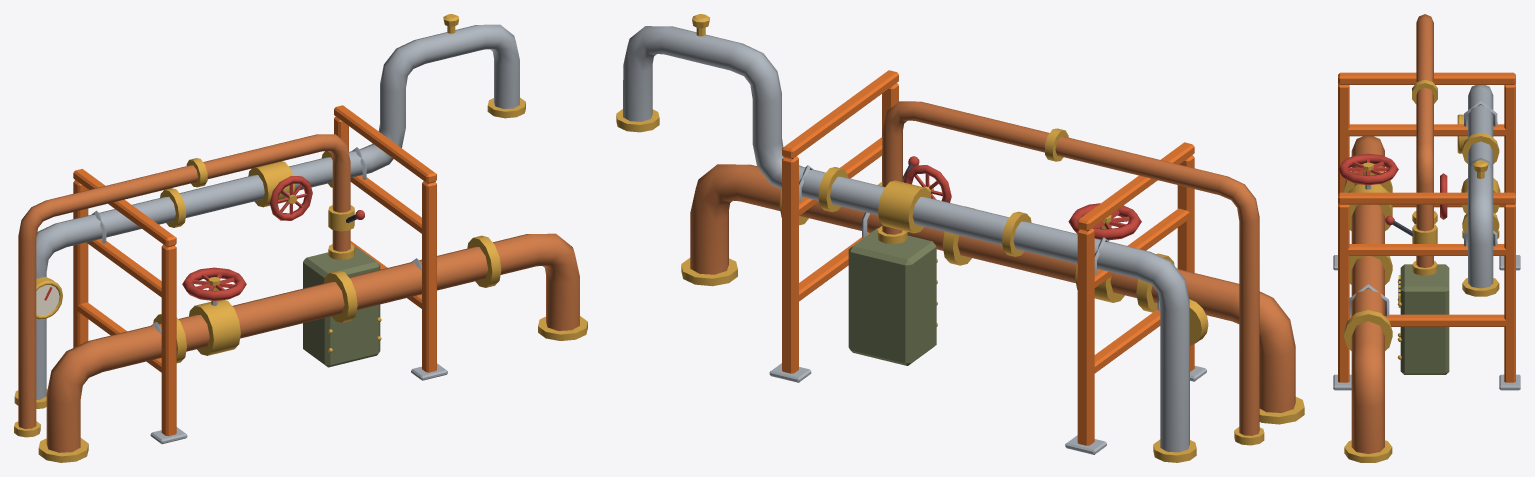
File: prop_pipes.glb
3 renders of one model, left to right at view 1: azimuth 30°, elevation 25°; view 2: azimuth 150°, elevation 25°; view 3: azimuth 270°, elevation 25°, orthographic. The views are drawn at different scales.
Visible parts, largest first — view 1: Pipes; view 2: Pipes; view 3: Pipes.
Part boxes in pixels (x1=…): Pipes: x1=14, y1=14, x2=587, y2=462; Pipes: x1=616, y1=14, x2=1304, y2=462; Pipes: x1=1333, y1=14, x2=1520, y2=462.
Size of what is drawn, in the model's own units: 6.03 by 3.02 by 1.92.
